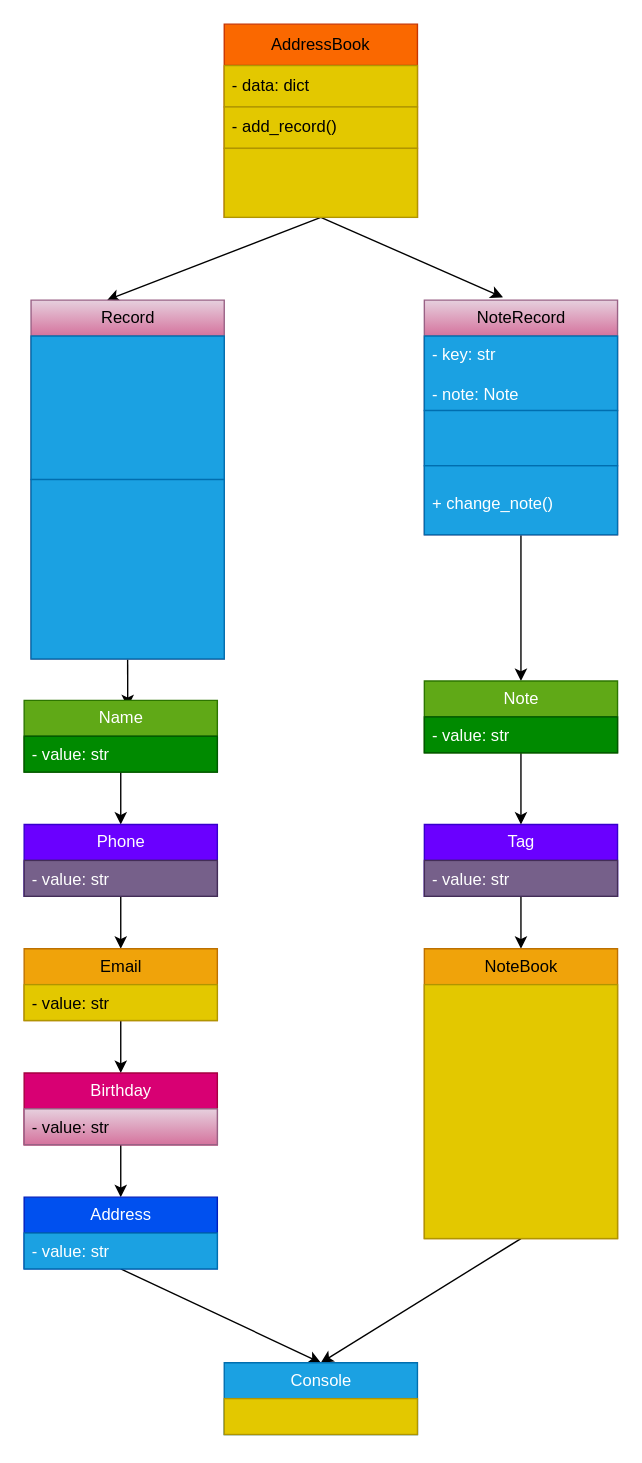
The diagram is 642 pixels wide and 1463 high, and some of its shapes have lost their labels. Here are the shapes that lost their labels. From the top down, the centre of each, then its label:
At (x=320, y=182): "- get_record() - del_record()".
At (x=127, y=407): "- name: Name - phones: list - email: Email - birthday: BDay".
At (x=520, y=437): "- tag: Tag".
At (x=127, y=568): "- address: Addr + add_phone() + add_email() + add_birthday()".
At (x=520, y=1111): "- data: dict + add_record() + get_record() + del_record()".
At (x=320, y=1416): "+ print()".
